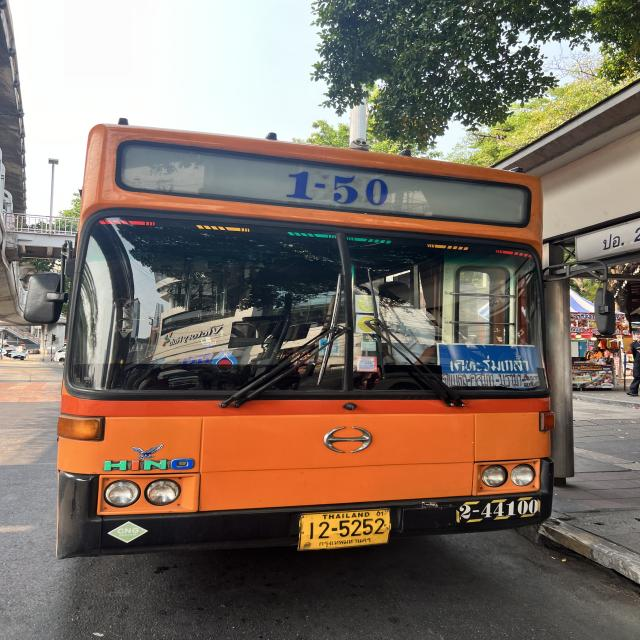BMTA-bus: (54, 121, 573, 562)
Bus-Line-Number: (278, 164, 390, 211)
Destination-Sign-Normal: (435, 341, 542, 390)
